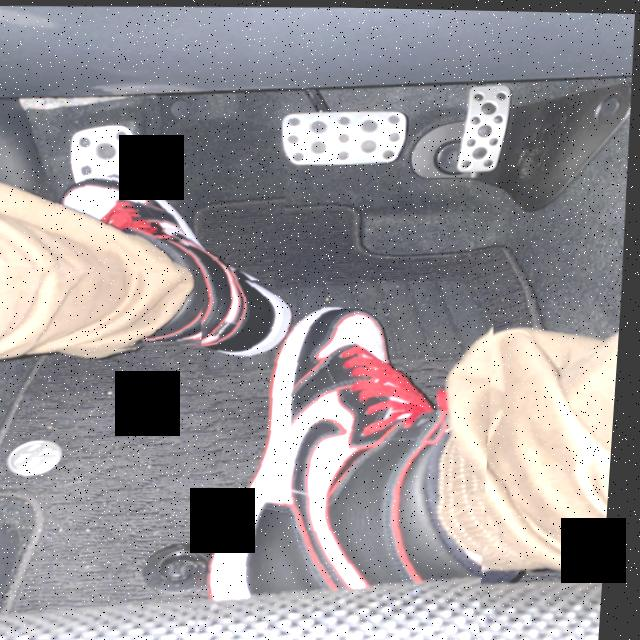shoe: (186, 273, 506, 640), (37, 158, 293, 355)
